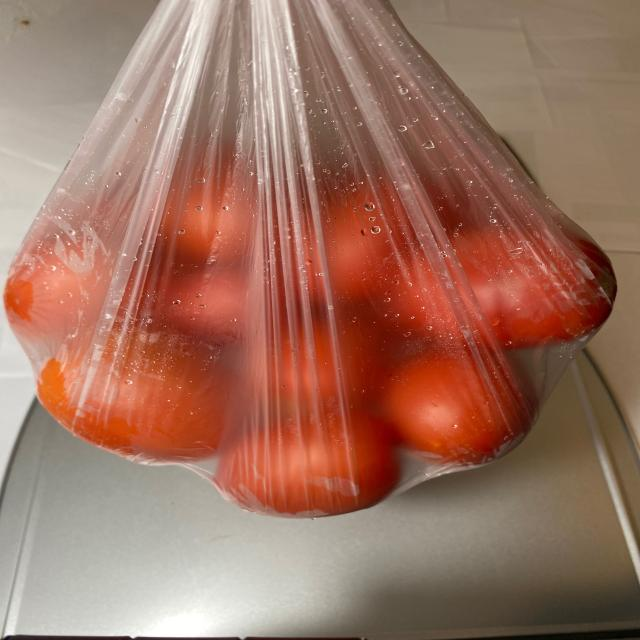tomato: (12, 133, 613, 511)
